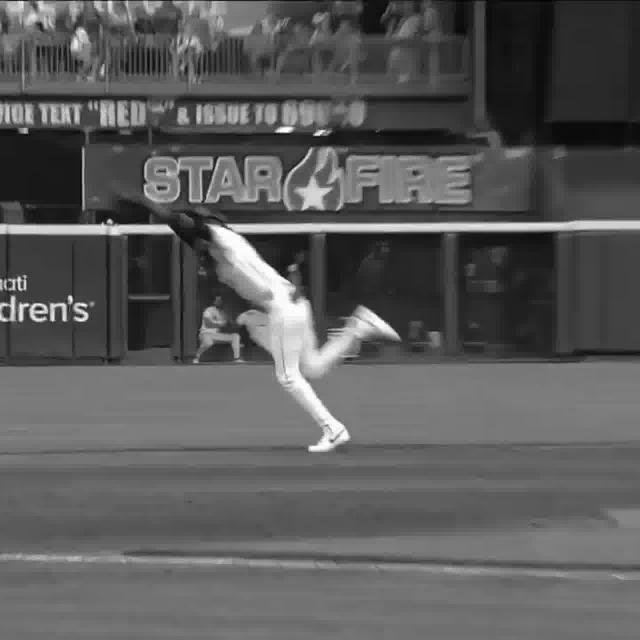shoe: (356, 308, 400, 343), (308, 422, 352, 454)
